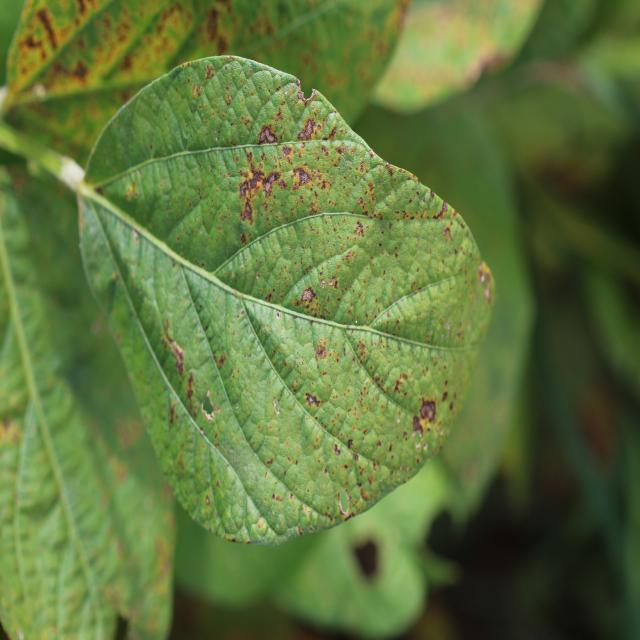Bacterial_Blight: (321, 423, 373, 510), (172, 335, 221, 427), (188, 66, 248, 138), (408, 387, 450, 458), (299, 413, 326, 458), (115, 412, 144, 451), (234, 192, 261, 222), (477, 263, 492, 303), (297, 117, 320, 141), (246, 169, 266, 193), (257, 124, 278, 144), (263, 170, 281, 193), (185, 370, 197, 404), (419, 399, 436, 423), (124, 179, 141, 202), (432, 199, 449, 220), (300, 286, 317, 305), (303, 87, 318, 107), (355, 339, 368, 362), (304, 392, 322, 408), (315, 340, 328, 361), (174, 355, 185, 377), (239, 179, 250, 198), (412, 415, 423, 434), (442, 226, 453, 244), (256, 516, 268, 532), (354, 220, 365, 237), (204, 63, 215, 80), (298, 169, 310, 184), (217, 353, 228, 368), (272, 397, 281, 415), (328, 124, 338, 139), (282, 144, 293, 157), (320, 144, 330, 158), (297, 88, 307, 102), (320, 179, 331, 191), (189, 100, 199, 113), (333, 443, 341, 457), (385, 162, 393, 176), (272, 492, 283, 502), (265, 456, 274, 467), (265, 292, 274, 303), (240, 232, 247, 246), (441, 390, 449, 402), (294, 77, 302, 88), (347, 438, 354, 450), (291, 383, 298, 393), (415, 440, 422, 450), (388, 442, 394, 453), (320, 279, 326, 289), (445, 321, 451, 331), (328, 279, 335, 287), (357, 197, 363, 206), (239, 261, 245, 270), (205, 496, 210, 505), (481, 273, 486, 282), (276, 311, 281, 319), (348, 328, 353, 336), (423, 444, 428, 451), (397, 416, 401, 424), (241, 309, 245, 316)
Soybean: (78, 56, 495, 544)
